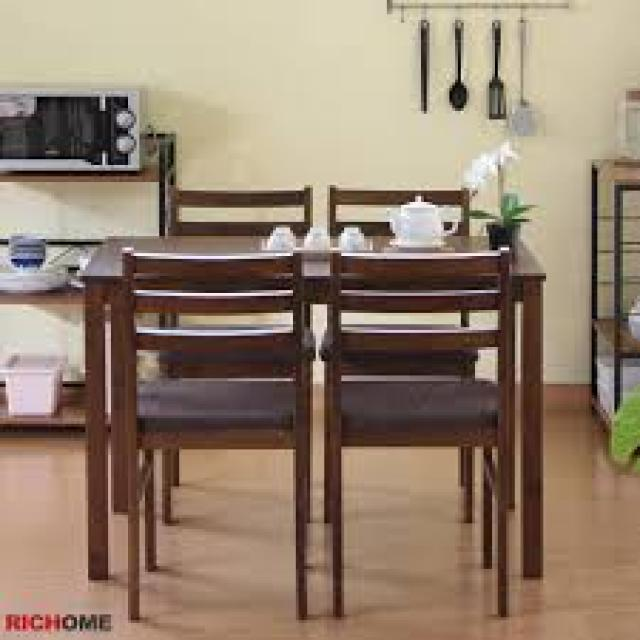table: (59, 169, 560, 626)
